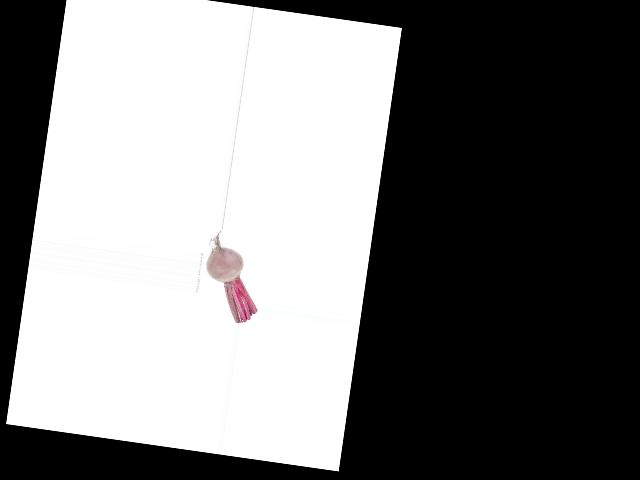beet: (198, 229, 267, 325)
